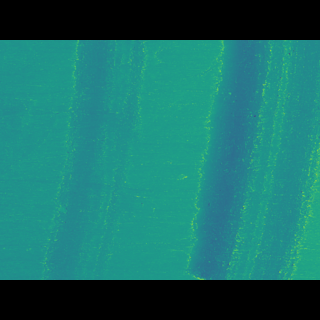Loch: (185, 70, 320, 250), (37, 70, 149, 249)
